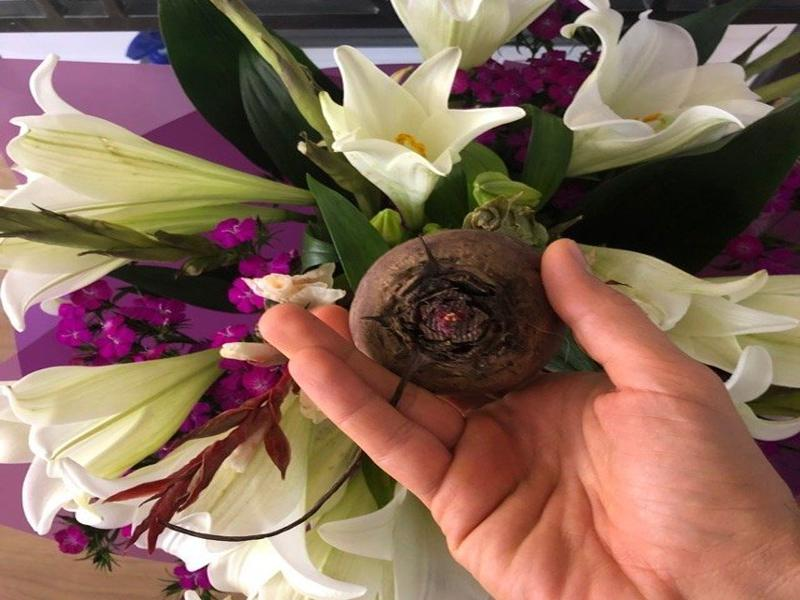Beet: (345, 228, 560, 400)
